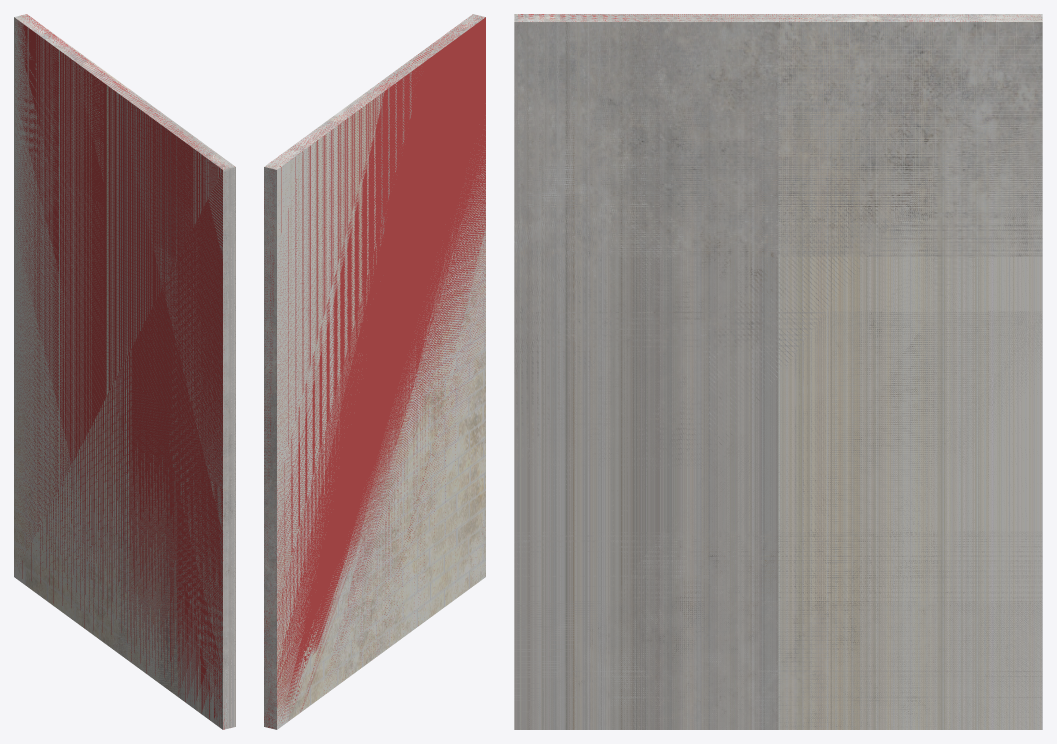
The model's file is warehouse_wall_plain.DAE.
3 renders of one model, left to right at view 1: azimuth 30°, elevation 25°; view 2: azimuth 150°, elevation 25°; view 3: azimuth 270°, elevation 25°, orthographic. The views are drawn at different scales.
Parts seen in each view (by area): view 1: bounds, colbox-01, warehouse_wall_plain; view 2: bounds, warehouse_wall_plain, colbox-01; view 3: colbox-01, warehouse_wall_plain.
Boxes of the visible parts, <box> form: bounds: <box>15,14,234,729</box>; colbox-01: <box>14,14,235,729</box>; warehouse_wall_plain: <box>14,14,235,729</box>; bounds: <box>264,15,485,728</box>; warehouse_wall_plain: <box>264,14,485,729</box>; colbox-01: <box>264,14,485,691</box>; colbox-01: <box>514,14,1042,729</box>; warehouse_wall_plain: <box>514,14,1042,729</box>.
Bounding box in the file's own units: 24 × 676 × 1000.
3 materials, 2 textured.
